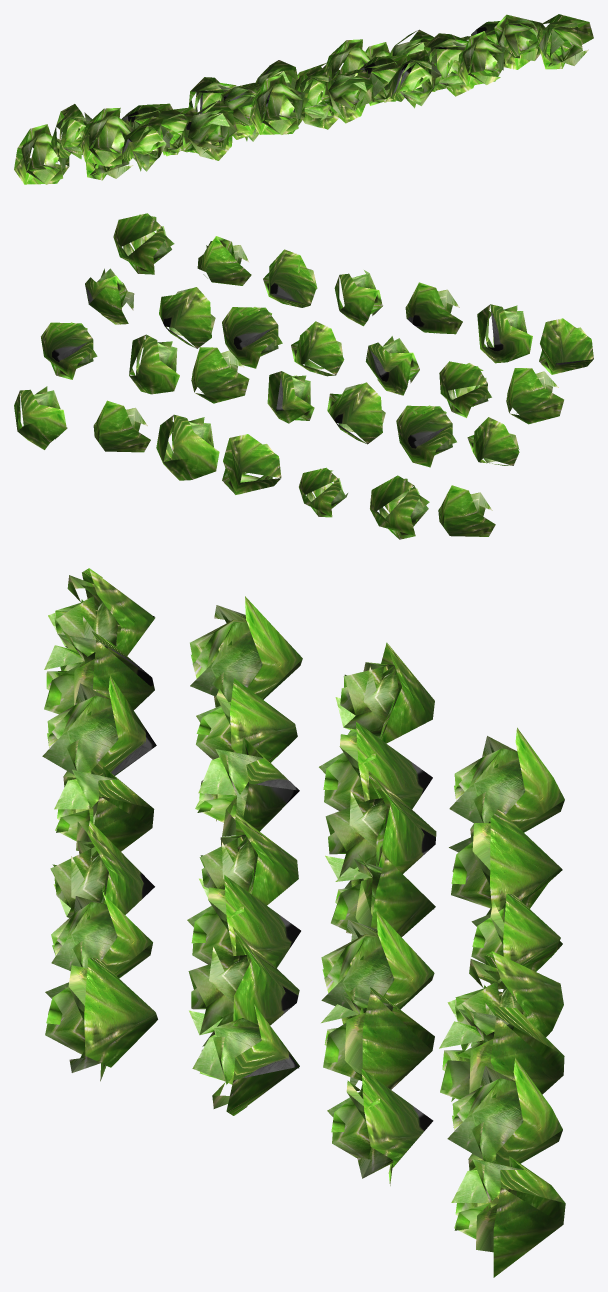
File: nt_hydro_plant_green_LOD2.obj
3 renders of one model, top to bottom at view 1: azimuth 30°, elevation 25°; view 2: azimuth 150°, elevation 25°; view 3: azimuth 270°, elevation 25°, orthographic. The views are drawn at different scales.
Parts seen in each view (by area): view 1: mtl_hydro_plant_01; view 2: mtl_hydro_plant_01; view 3: mtl_hydro_plant_01.
Boxes of the visible parts, x1=… form: mtl_hydro_plant_01: x1=14, y1=14, x2=593, y2=184; mtl_hydro_plant_01: x1=14, y1=213, x2=593, y2=539; mtl_hydro_plant_01: x1=42, y1=568, x2=565, y2=1277.
Bounding box in the file's own units: 288 × 91.8 × 137.
